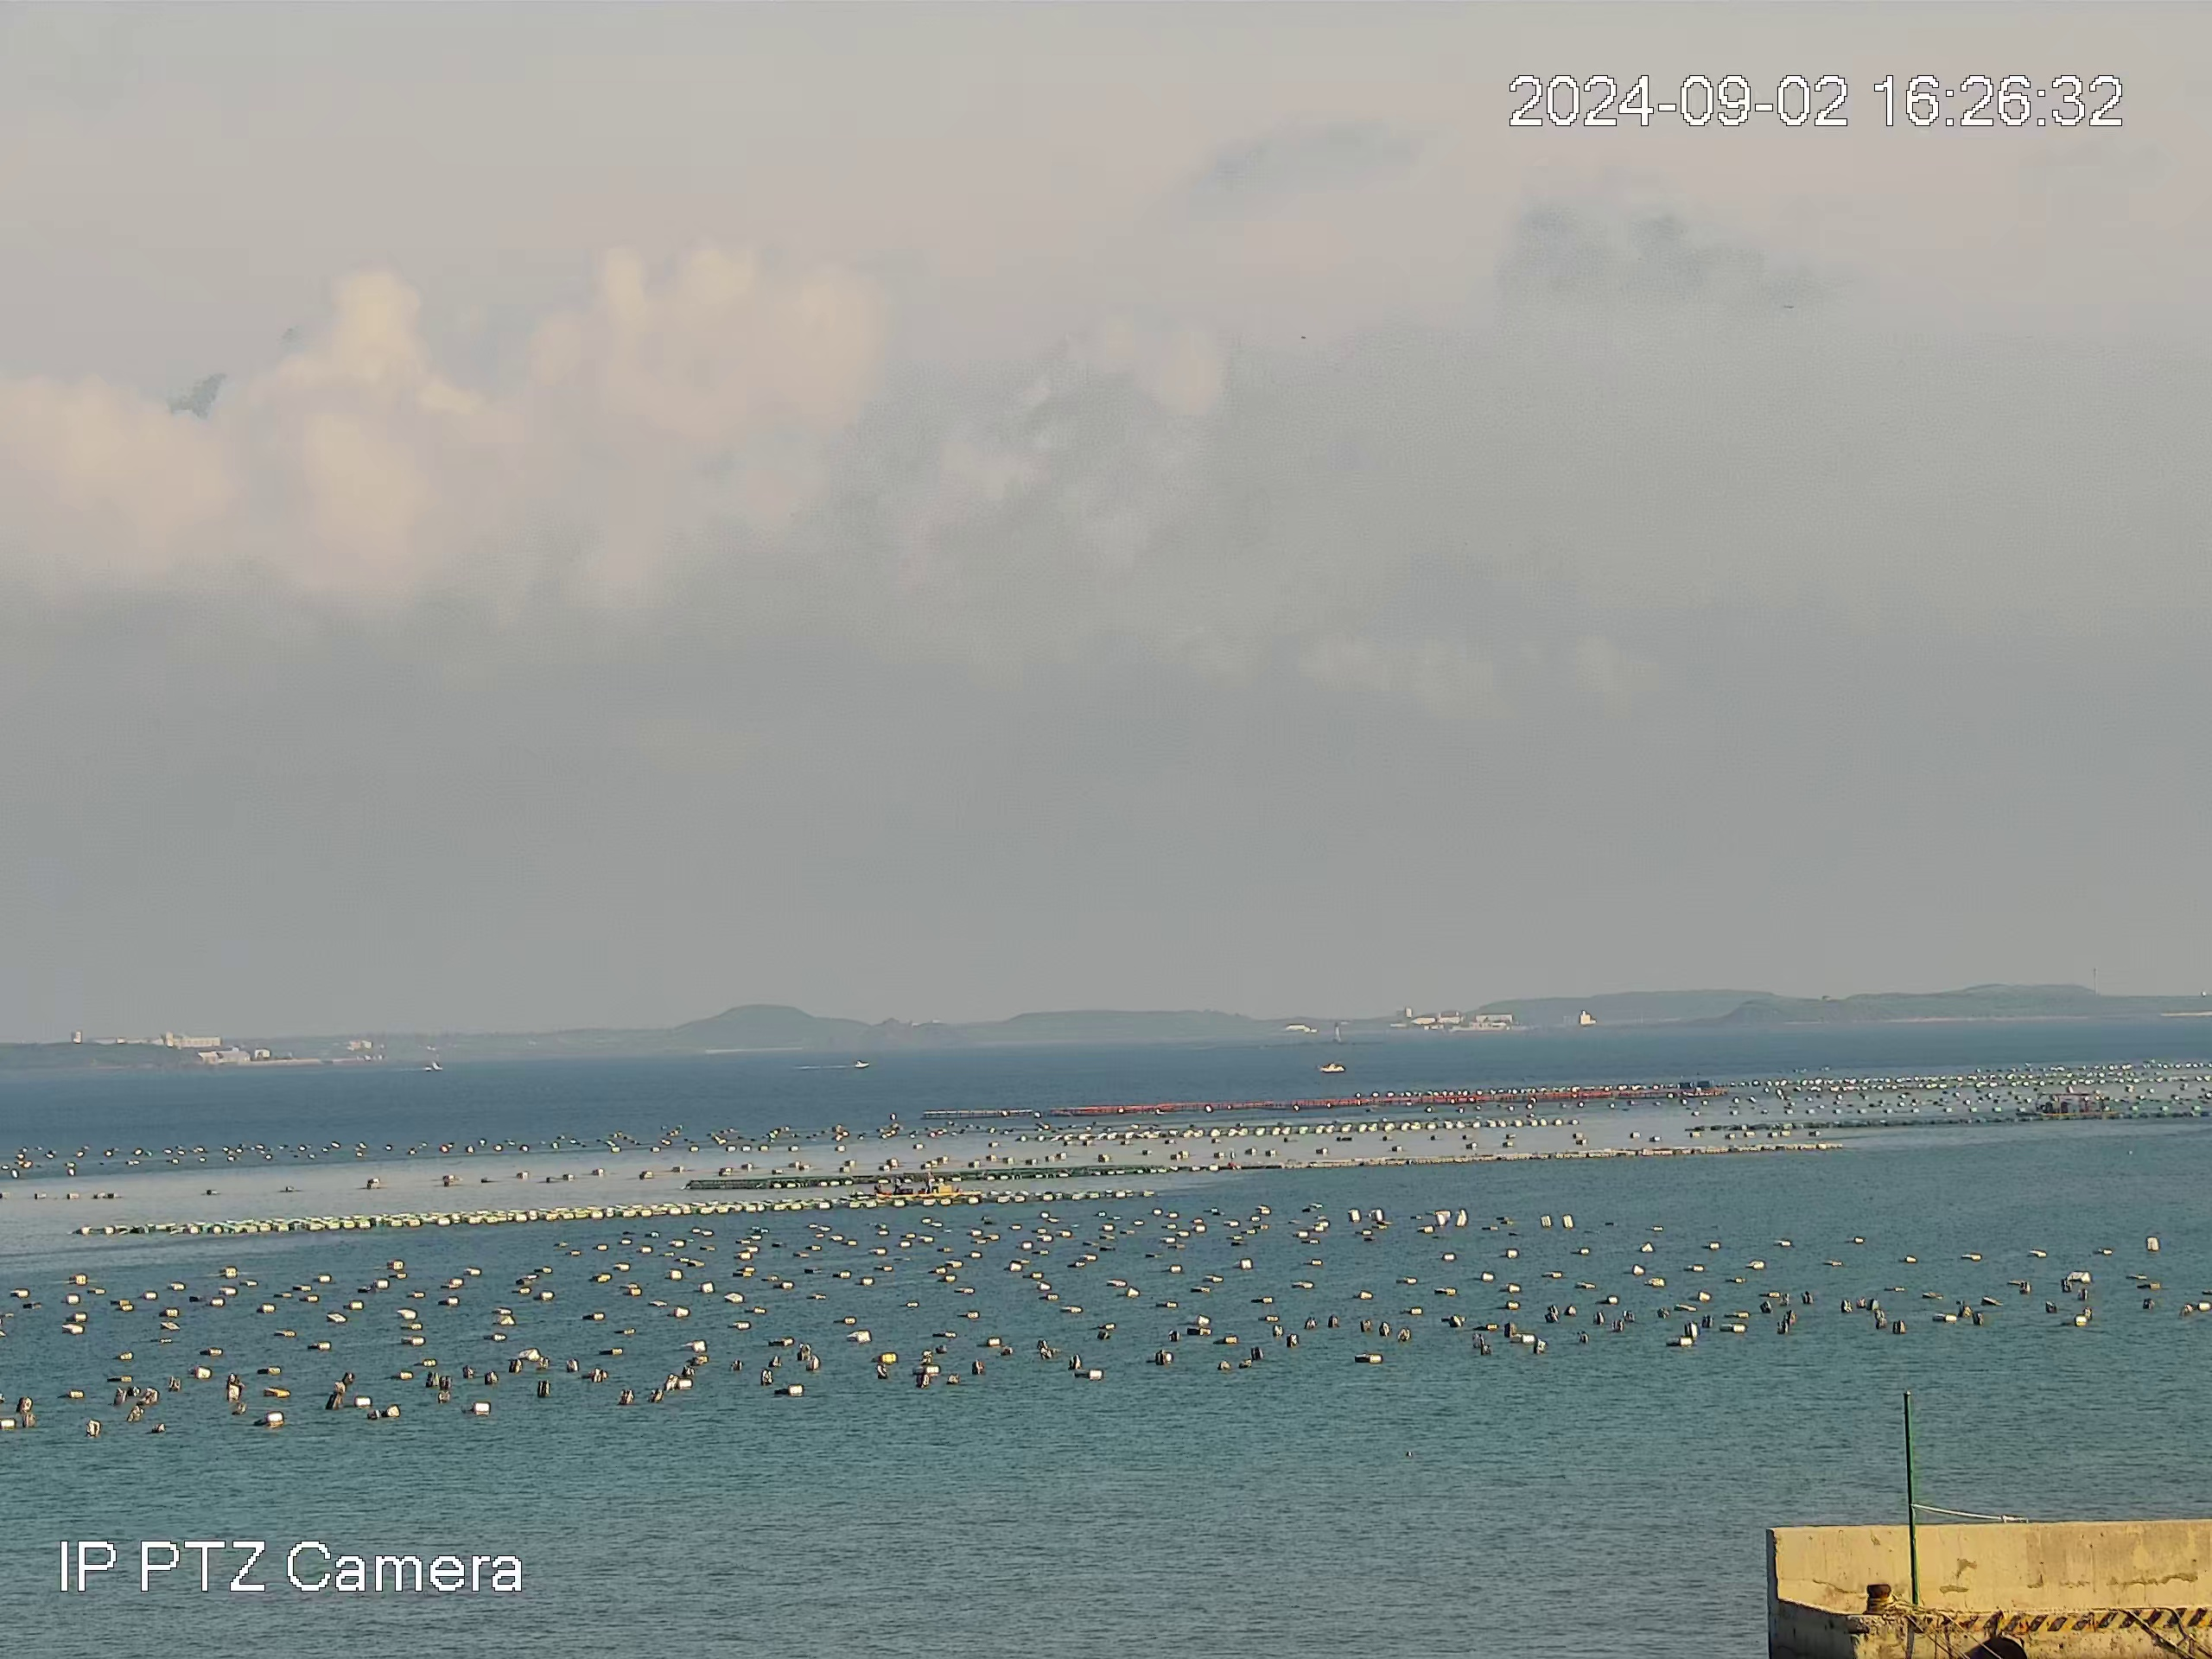boat: (874, 1171, 982, 1197), (2034, 1091, 2116, 1121), (1317, 1060, 1346, 1075), (853, 1060, 869, 1068)
